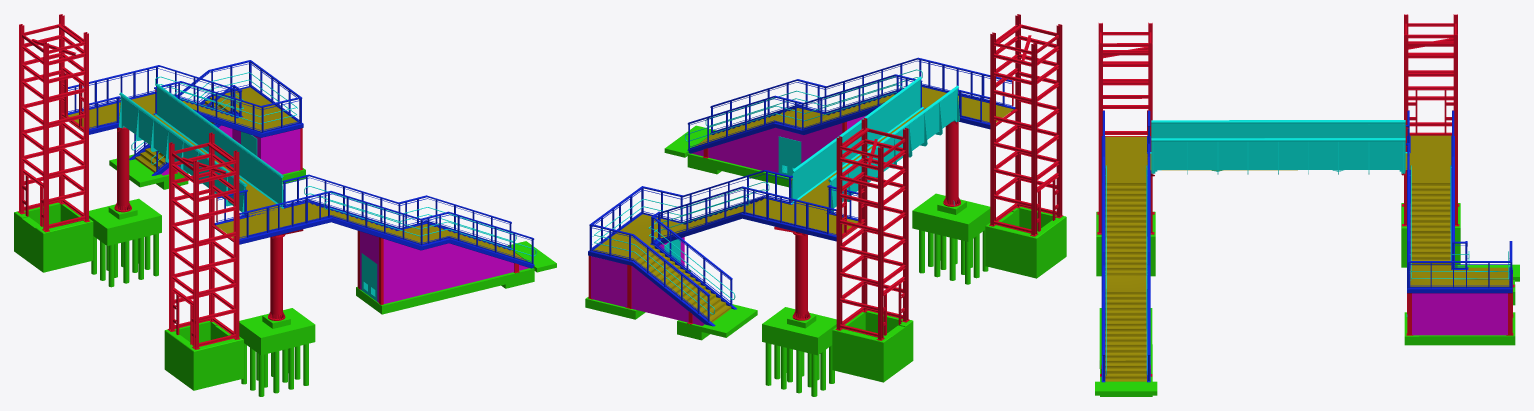
The model's file is Footbridge.glb.
3 views of the same model, side by side, from view 1: azimuth 30°, elevation 25°; view 2: azimuth 150°, elevation 25°; view 3: azimuth 270°, elevation 25° (orthographic). The views are drawn at different scales.
Parts seen in each view (by area): view 1: Proposed_Bridge; view 2: Proposed_Bridge; view 3: Proposed_Bridge.
Boxes of the visible parts, <box> form: Proposed_Bridge: <box>14,14,556,396</box>; Proposed_Bridge: <box>585,14,1066,396</box>; Proposed_Bridge: <box>1095,14,1519,396</box>.
Size of the model in its own units: 2191 by 1513 by 2185.
